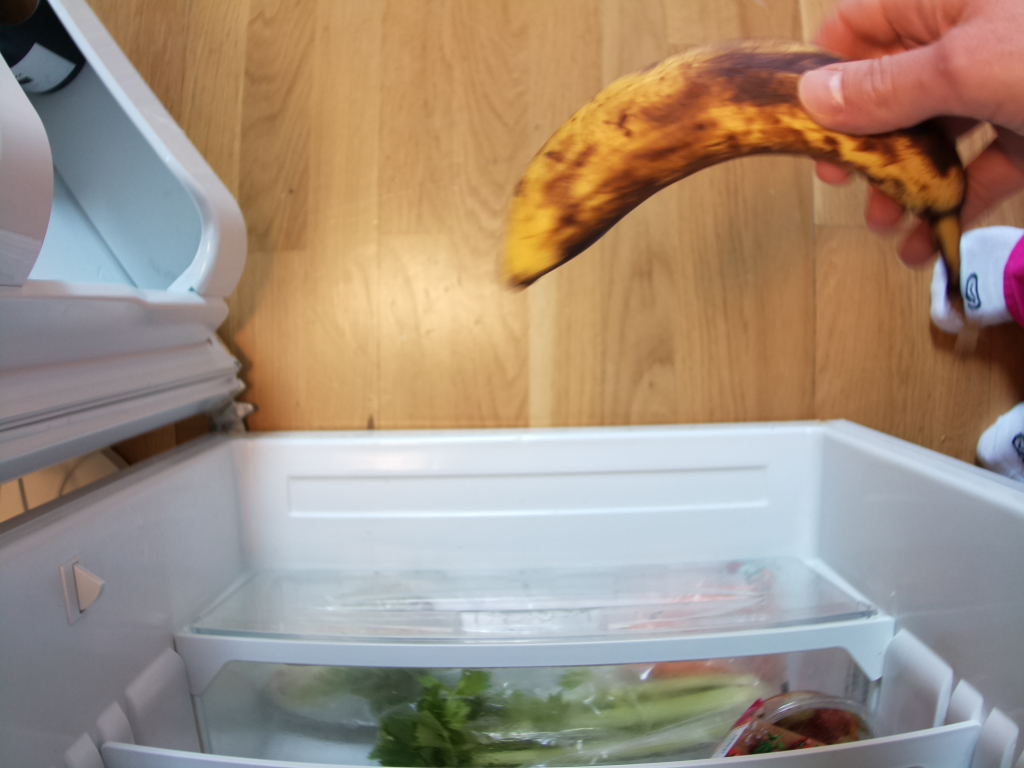banana-overripe: (498, 42, 968, 328)
